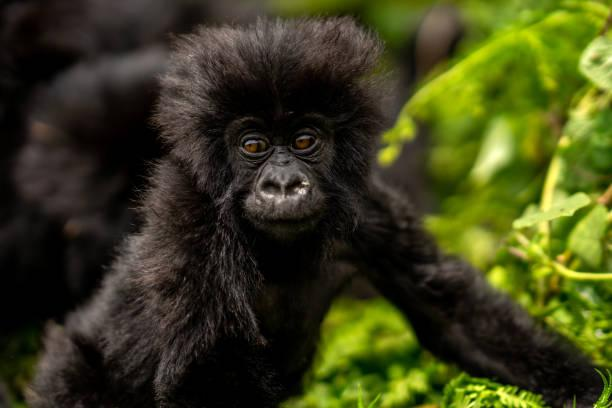goriile_montagne: (33, 11, 612, 408)
